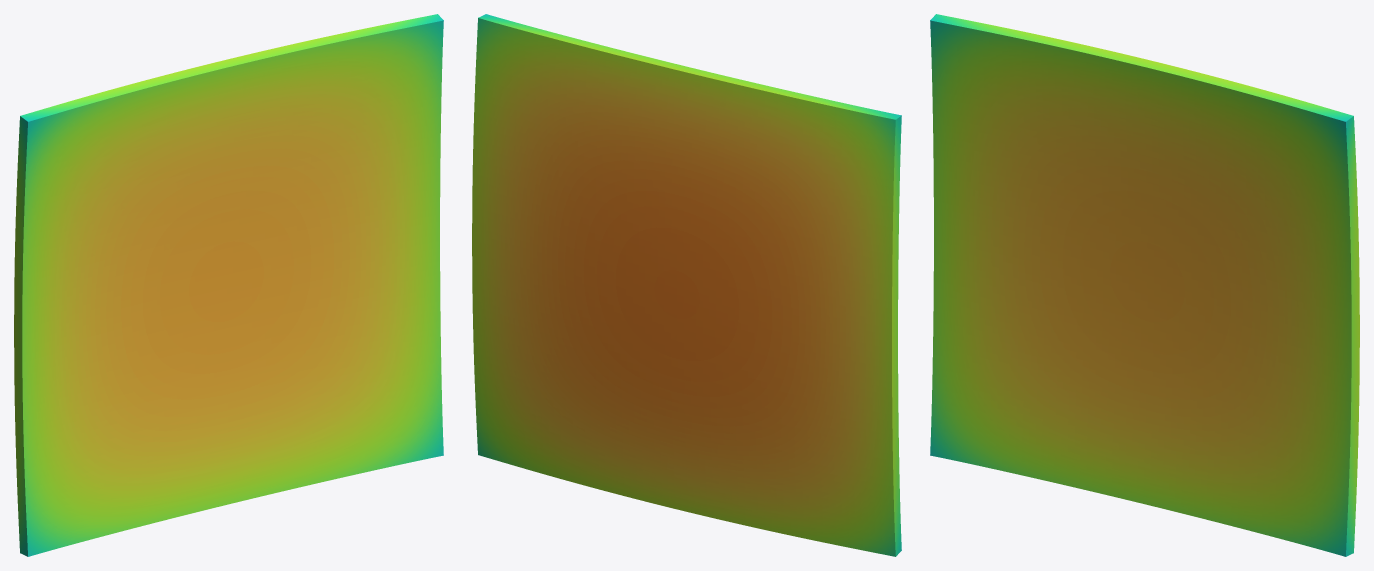
File: Eclipse_DISP_Al6061-T6_3mm.gltf
The picture shows the model from 3 angles, left to right: view 1: azimuth 30°, elevation 25°; view 2: azimuth 150°, elevation 25°; view 3: azimuth 330°, elevation 25°; orthographic projection.
Visible parts, largest first — view 1: Renderer Node; view 2: Renderer Node; view 3: Renderer Node.
Boxes of the visible parts, x1,y1,x2,y2 form: Renderer Node: (14,14,443,556); Renderer Node: (472,14,901,556); Renderer Node: (930,14,1359,556).
Size of the model in its own units: 85.61 by 85.61 by 5.97.
1 material, 1 textured.
